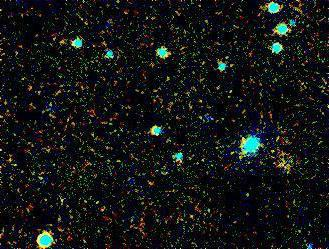star: (259, 139, 289, 169)
